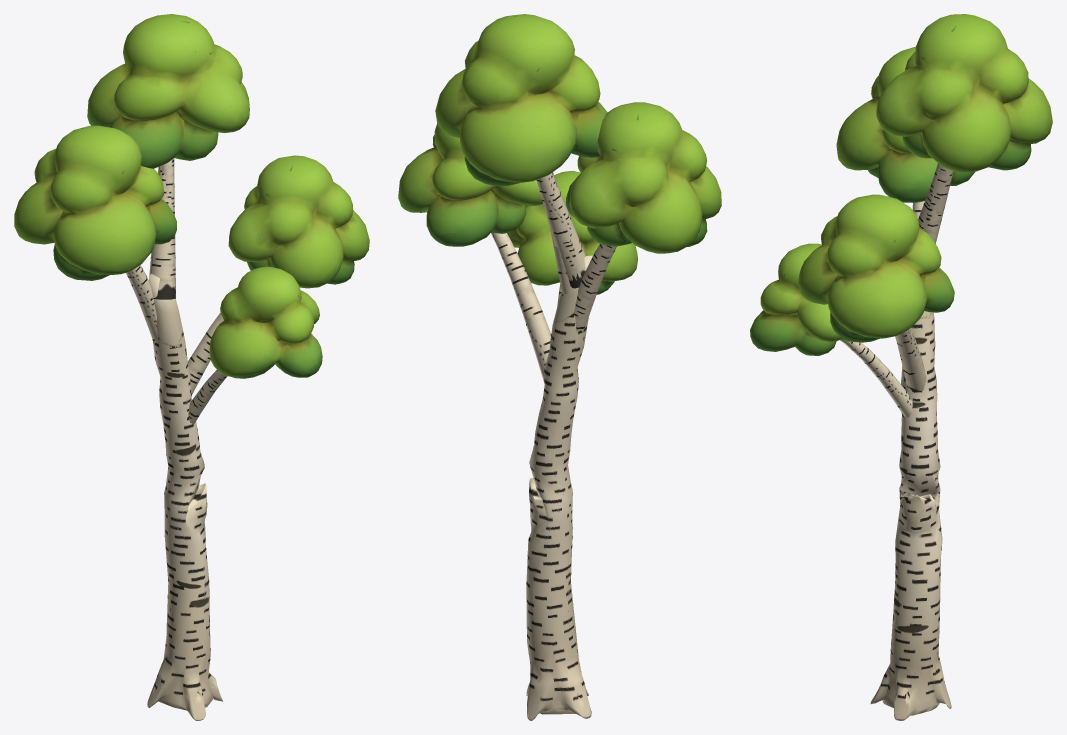
Rendered from birch_tree_v5.glb.
The picture shows the model from 3 angles, left to right: view 1: azimuth 30°, elevation 25°; view 2: azimuth 150°, elevation 25°; view 3: azimuth 270°, elevation 25°; orthographic projection. The views are drawn at different scales.
Visible parts, largest first — view 1: birch_tree_v2; view 2: birch_tree_v2; view 3: birch_tree_v2.
Boxes of the visible parts, x1,y1,x2,y2 form: birch_tree_v2: [14, 14, 369, 720]; birch_tree_v2: [398, 14, 721, 720]; birch_tree_v2: [750, 14, 1052, 720].
Size of the model in its own units: 5.01 by 10.27 by 4.09.
Materials: 1 (1 with a texture image).
